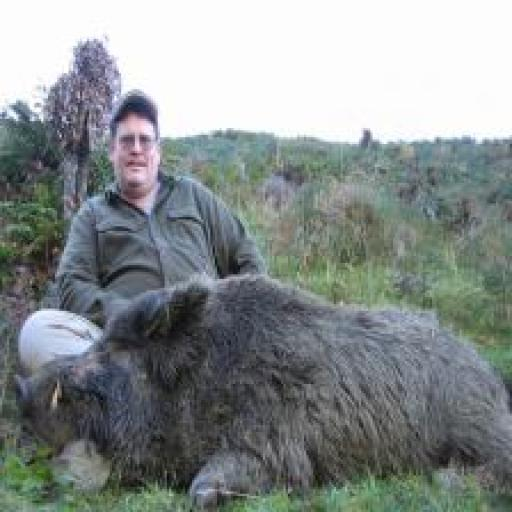Pig: (13, 265, 512, 506)
